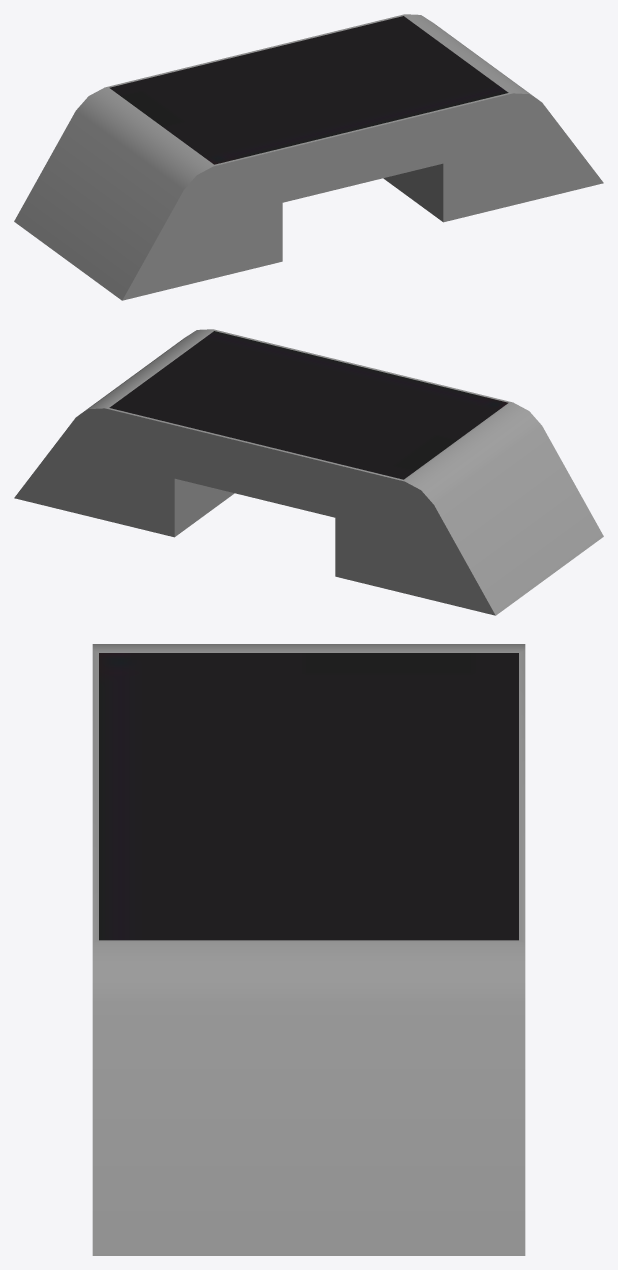
The model's file is ab-bench.glb.
3 views of the same model, one above another, from view 1: azimuth 30°, elevation 25°; view 2: azimuth 150°, elevation 25°; view 3: azimuth 270°, elevation 25° (orthographic). The views are drawn at different scales.
Parts seen in each view (by area): view 1: step_platform_gym_environment_0; view 2: step_platform_gym_environment_0; view 3: step_platform_gym_environment_0.
Part boxes in pixels (<box>): step_platform_gym_environment_0: <box>14,14,603,300</box>; step_platform_gym_environment_0: <box>14,329,603,615</box>; step_platform_gym_environment_0: <box>92,644,525,1255</box>.
Bounding box in the file's own units: 0.9 × 0.2 × 0.35.
Materials: 1 (1 with a texture image).
